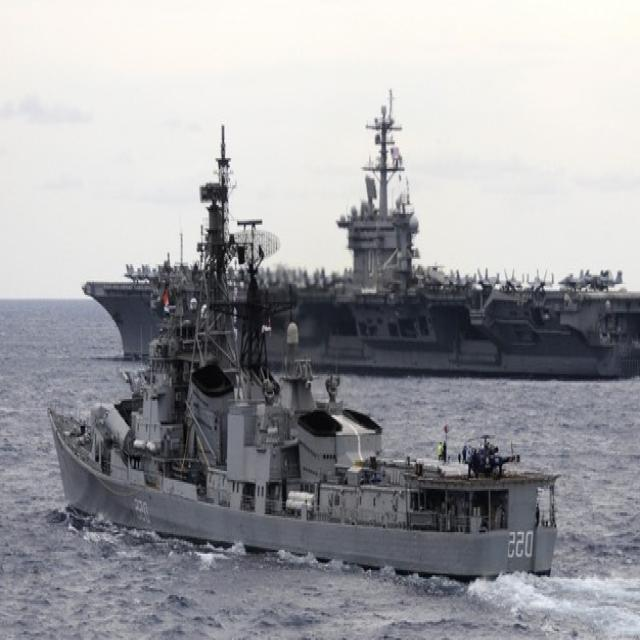navalvessels: (19, 188, 577, 542), (75, 96, 640, 361)
